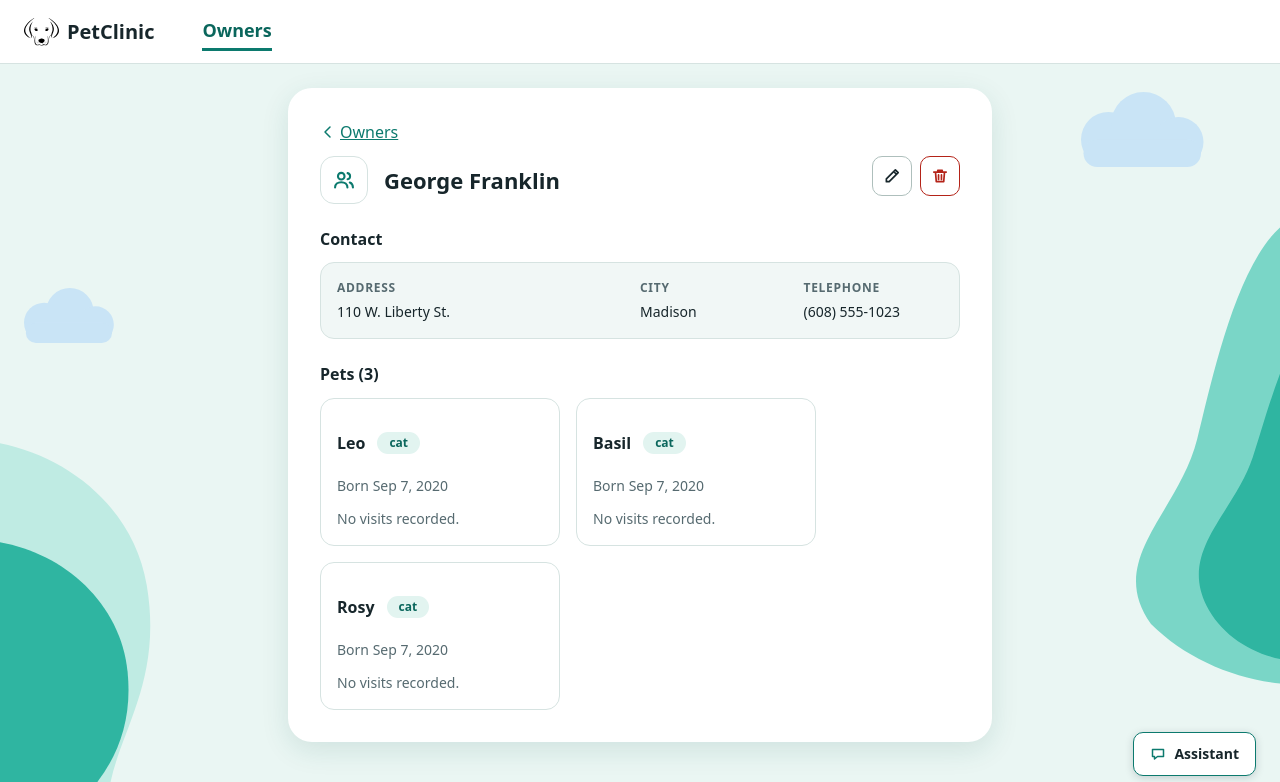
Test: deleting an owner › closes on Cancel without deleting
The image size is (1280, 782).
Click the button named "Delete owner" at (940,176), box [920, 156, 960, 196]
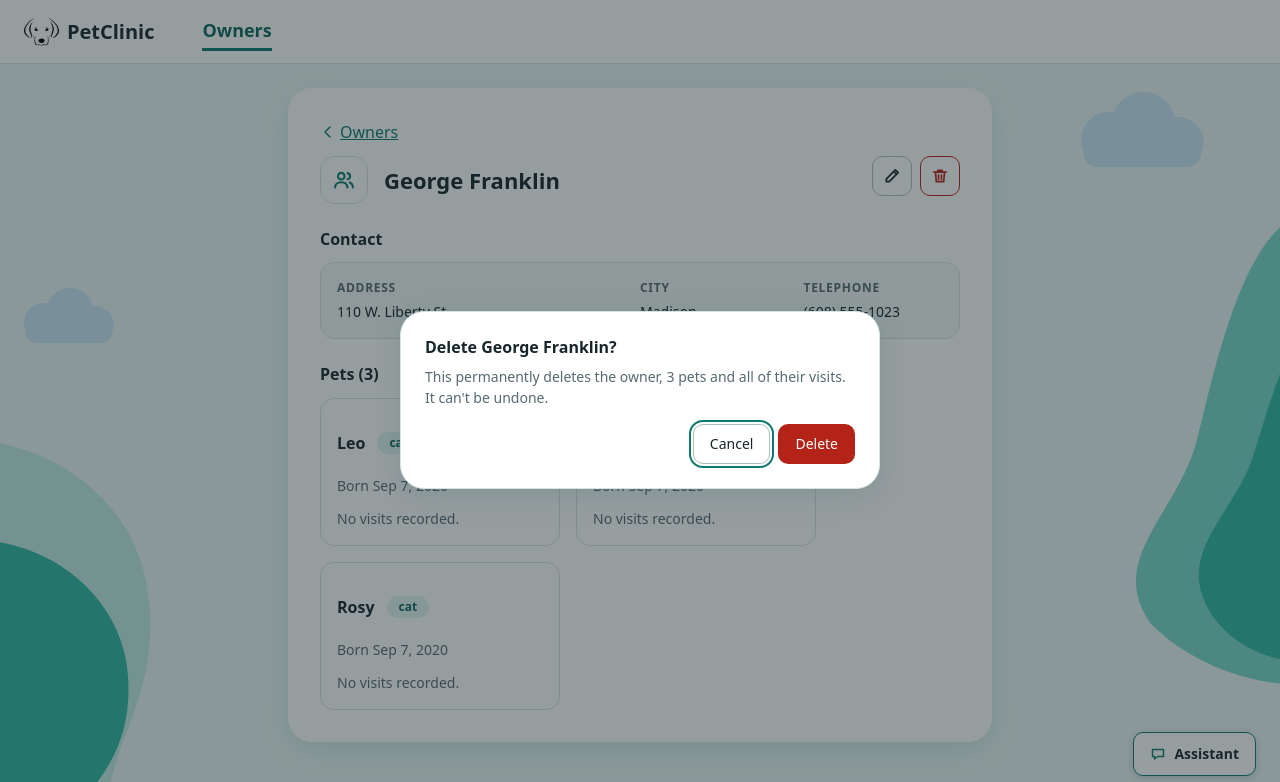
Click the button "Cancel" at (732,444), box [693, 424, 770, 464]
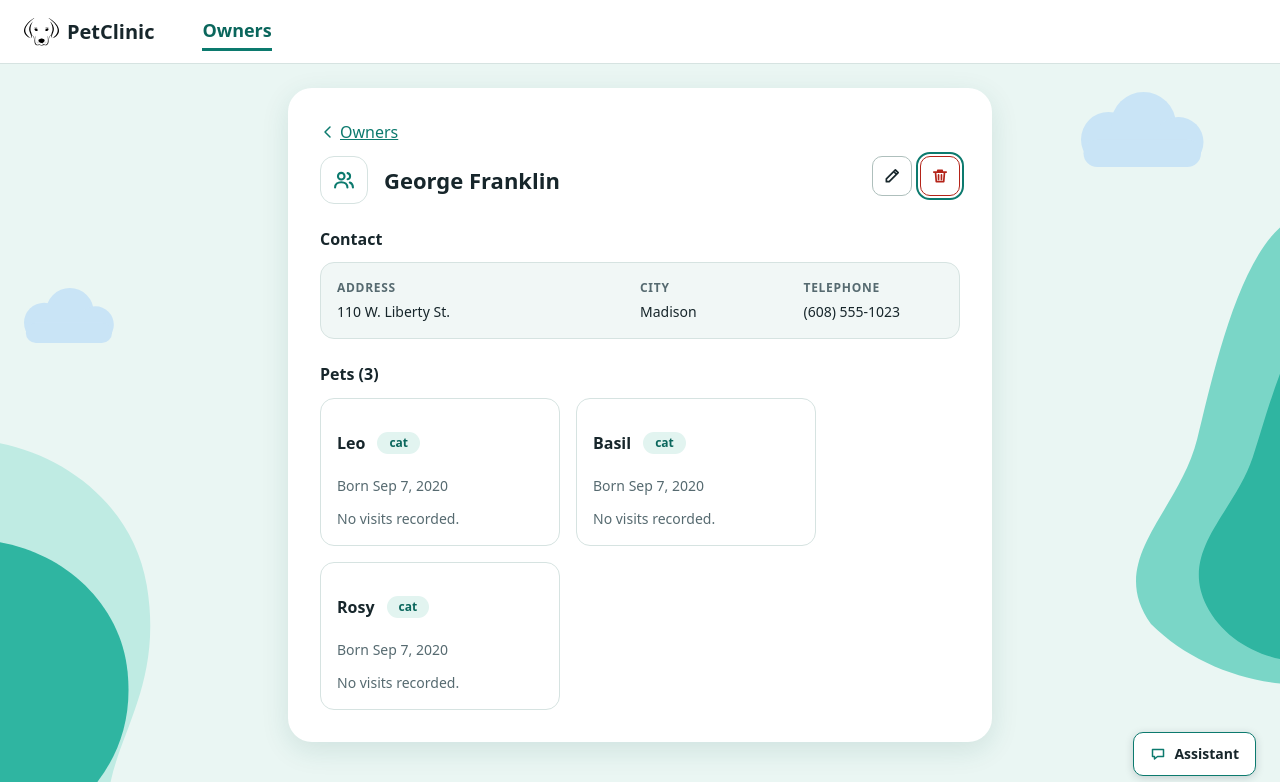
Now the dialog is gone
